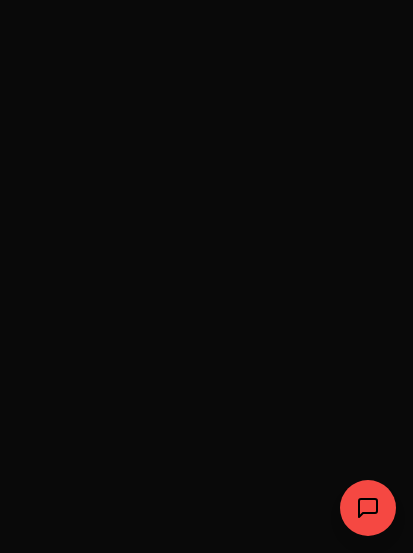
Test: CustomerChatWidget › opens chat panel when button is clicked
What coordinates should you click on to do the following:
click the button named "chat"
I would click on:
 (368, 508)
Its box is [340,480,396,536].
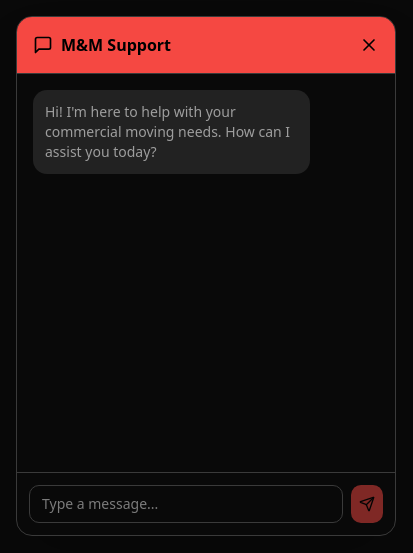
Expected: the field with placeholder "Type a message..." is shown, [29,485,343,523]
